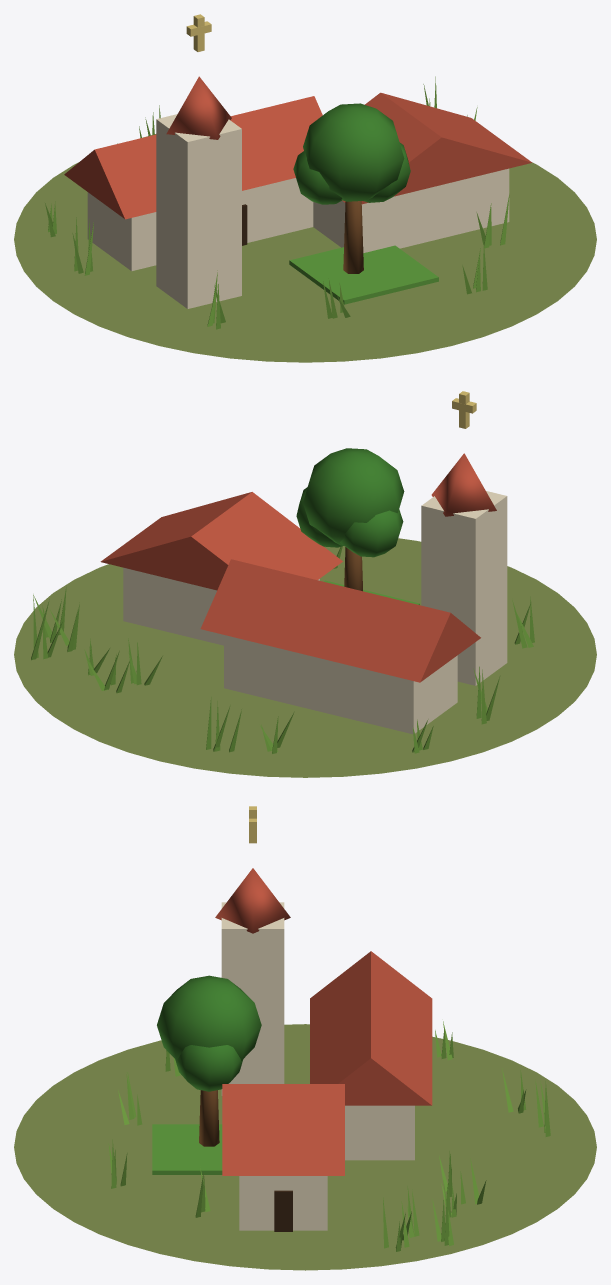
Rendered from improvement_monastery.fbx.
3 renders of one model, top to bottom at view 1: azimuth 30°, elevation 25°; view 2: azimuth 150°, elevation 25°; view 3: azimuth 270°, elevation 25°, orthographic.
Parts seen in each view (by area): view 1: improvement_monastery_gpatch#7a8a4ar_00, improvement_monastery_plaster.001_02, improvement_monastery_tiles.002_03, improvement_monastery_leaf#3a7a2a.001_08, improvement_monastery_mgarden_06, improvement_monastery_leaf#6a9a3a.012_01, improvement_monastery_wood#6a4423.003_07, improvement_monastery_mcross_05; view 2: improvement_monastery_gpatch#7a8a4ar_00, improvement_monastery_tiles.002_03, improvement_monastery_plaster.001_02, improvement_monastery_leaf#3a7a2a.001_08, improvement_monastery_leaf#6a9a3a.012_01, improvement_monastery_wood#6a4423.003_07, improvement_monastery_mcross_05; view 3: improvement_monastery_gpatch#7a8a4ar_00, improvement_monastery_tiles.002_03, improvement_monastery_plaster.001_02, improvement_monastery_leaf#3a7a2a.001_08, improvement_monastery_leaf#6a9a3a.012_01, improvement_monastery_mgarden_06, improvement_monastery_wood#6a4423.003_07, improvement_monastery_door.004_04.
Part boxes in pixels (x1=…): improvement_monastery_gpatch#7a8a4ar_00: x1=14, y1=134, x2=596, y2=362; improvement_monastery_plaster.001_02: x1=87, y1=114, x2=509, y2=308; improvement_monastery_tiles.002_03: x1=64, y1=76, x2=532, y2=219; improvement_monastery_leaf#3a7a2a.001_08: x1=293, y1=103, x2=410, y2=204; improvement_monastery_mgarden_06: x1=289, y1=245, x2=438, y2=304; improvement_monastery_leaf#6a9a3a.012_01: x1=45, y1=76, x2=509, y2=329; improvement_monastery_wood#6a4423.003_07: x1=343, y1=201, x2=363, y2=273; improvement_monastery_mcross_05: x1=186, y1=14, x2=211, y2=51; improvement_monastery_gpatch#7a8a4ar_00: x1=14, y1=538, x2=596, y2=777; improvement_monastery_tiles.002_03: x1=100, y1=453, x2=496, y2=682; improvement_monastery_plaster.001_02: x1=123, y1=491, x2=507, y2=734; improvement_monastery_leaf#3a7a2a.001_08: x1=296, y1=448, x2=404, y2=557; improvement_monastery_leaf#6a9a3a.012_01: x1=31, y1=546, x2=534, y2=753; improvement_monastery_wood#6a4423.003_07: x1=344, y1=547, x2=362, y2=591; improvement_monastery_mcross_05: x1=452, y1=391, x2=476, y2=428; improvement_monastery_gpatch#7a8a4ar_00: x1=14, y1=1024, x2=596, y2=1270; improvement_monastery_tiles.002_03: x1=215, y1=868, x2=432, y2=1175; improvement_monastery_plaster.001_02: x1=221, y1=902, x2=414, y2=1230; improvement_monastery_leaf#3a7a2a.001_08: x1=157, y1=975, x2=261, y2=1091; improvement_monastery_leaf#6a9a3a.012_01: x1=108, y1=1021, x2=550, y2=1251; improvement_monastery_mgarden_06: x1=152, y1=1124, x2=222, y2=1174; improvement_monastery_wood#6a4423.003_07: x1=199, y1=1090, x2=219, y2=1146; improvement_monastery_door.004_04: x1=274, y1=1190, x2=292, y2=1231.
Size of the model in its own units: 133 by 70.04 by 133.
